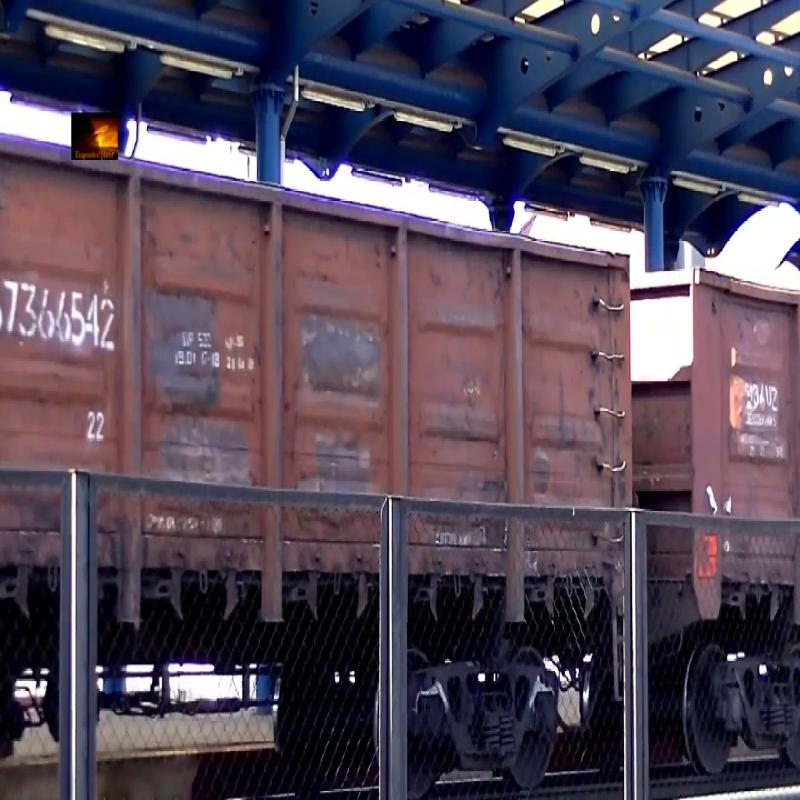train: (2, 46, 664, 766), (696, 46, 800, 765)
